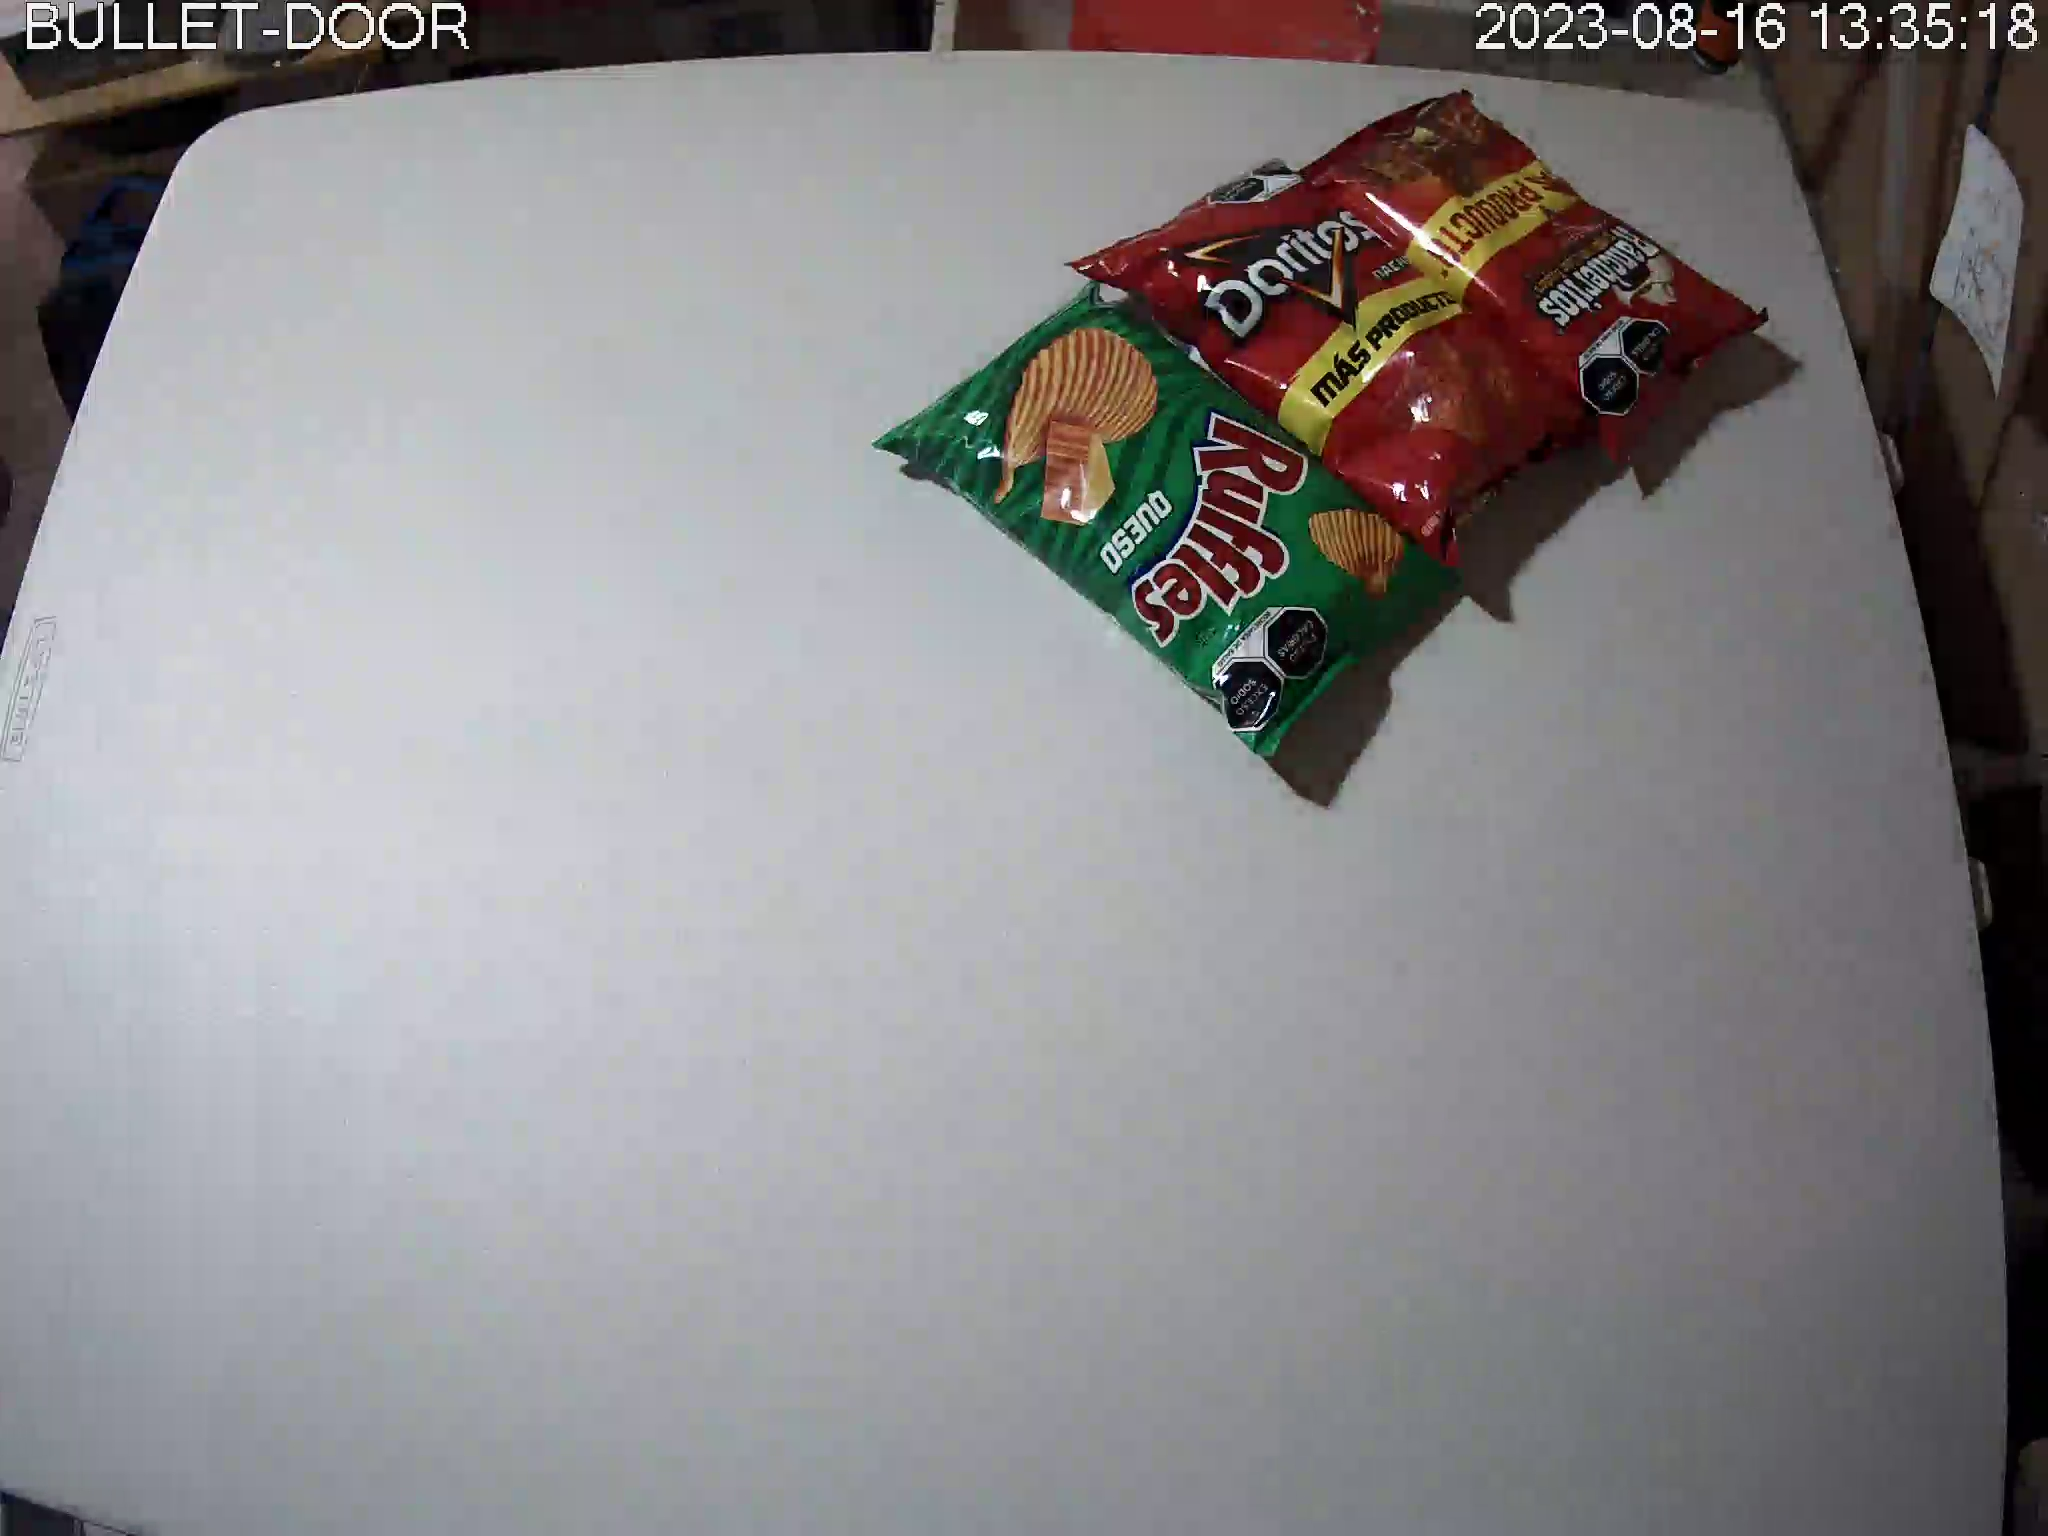DoritosN_61_F: (1068, 157, 1608, 574)
Rancheritos_58_F: (1277, 89, 1771, 476)
RufflesQ_48_F: (869, 274, 1472, 770)
